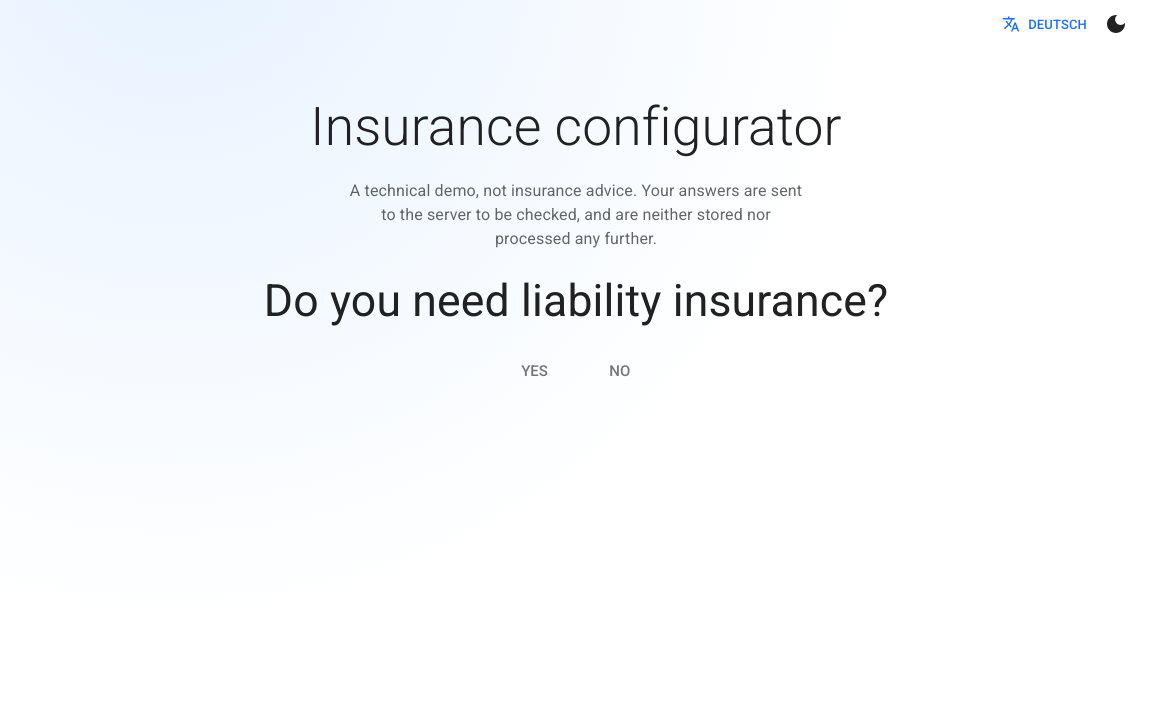
it: InsuranceChat › resets to the first question once the reset is confirmed
Click the button "Yes".
click(534, 371)  # box [496,342,573,400]
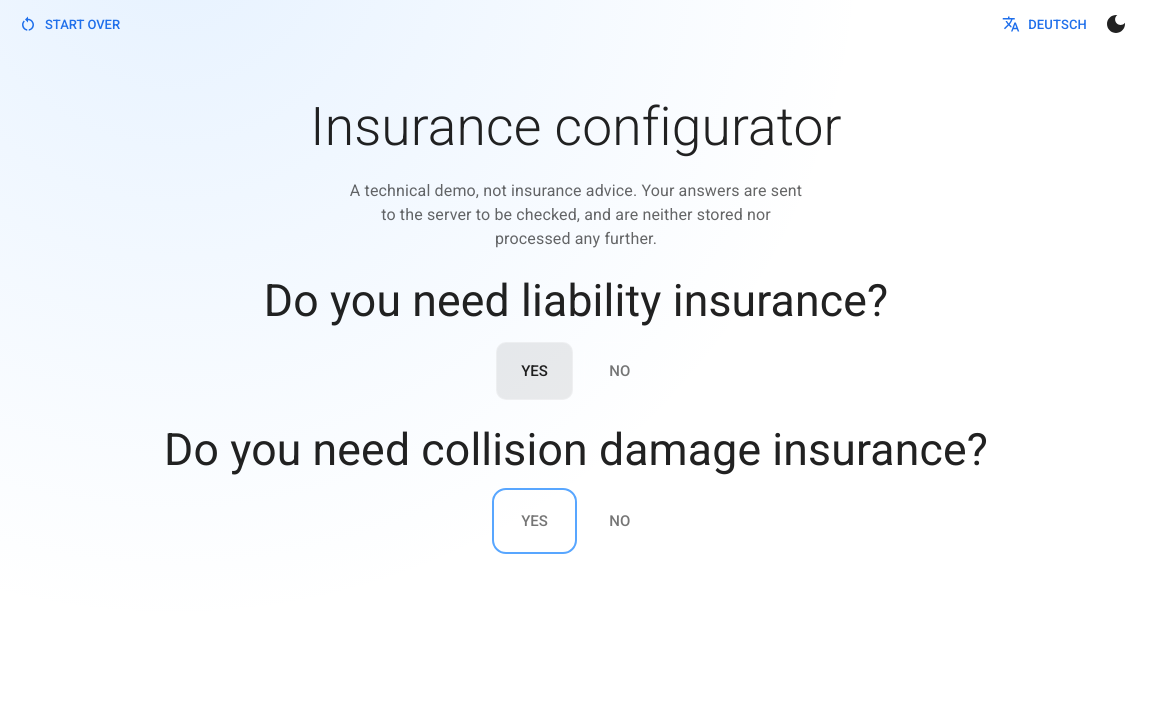
Click the button "Start over".
click(71, 24)  # box [16,11,125,37]
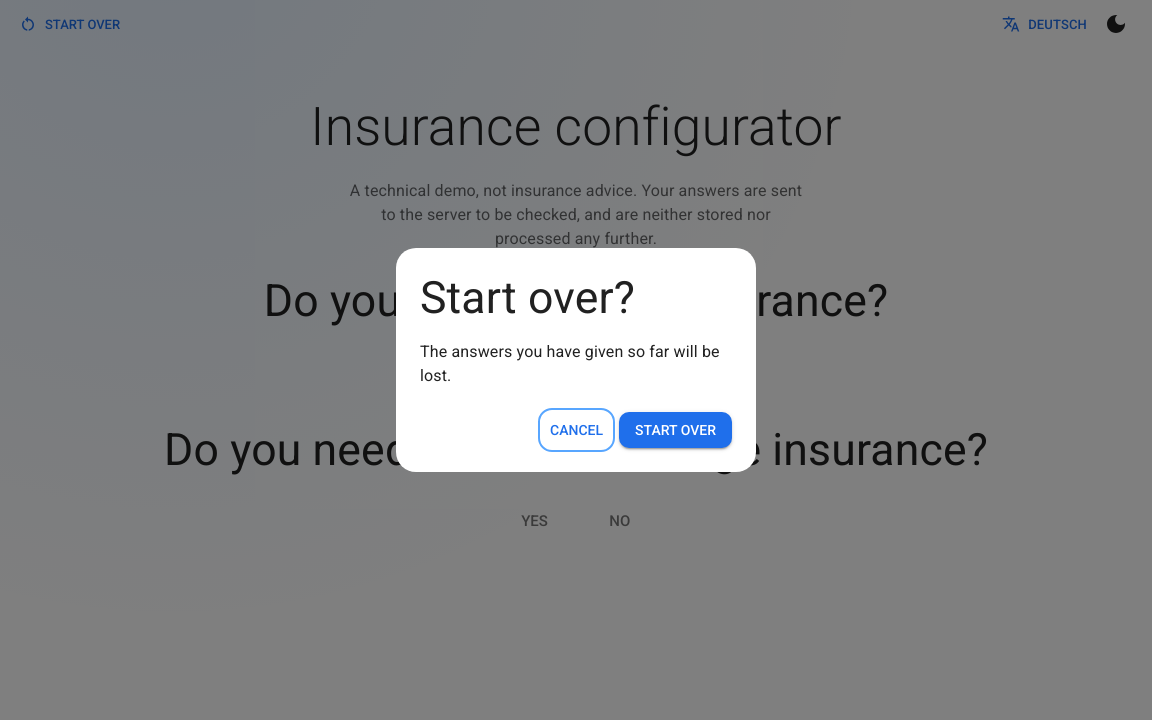
Click the button "Start over" below "Start over?".
click(676, 430)  # box [619,412,732,448]
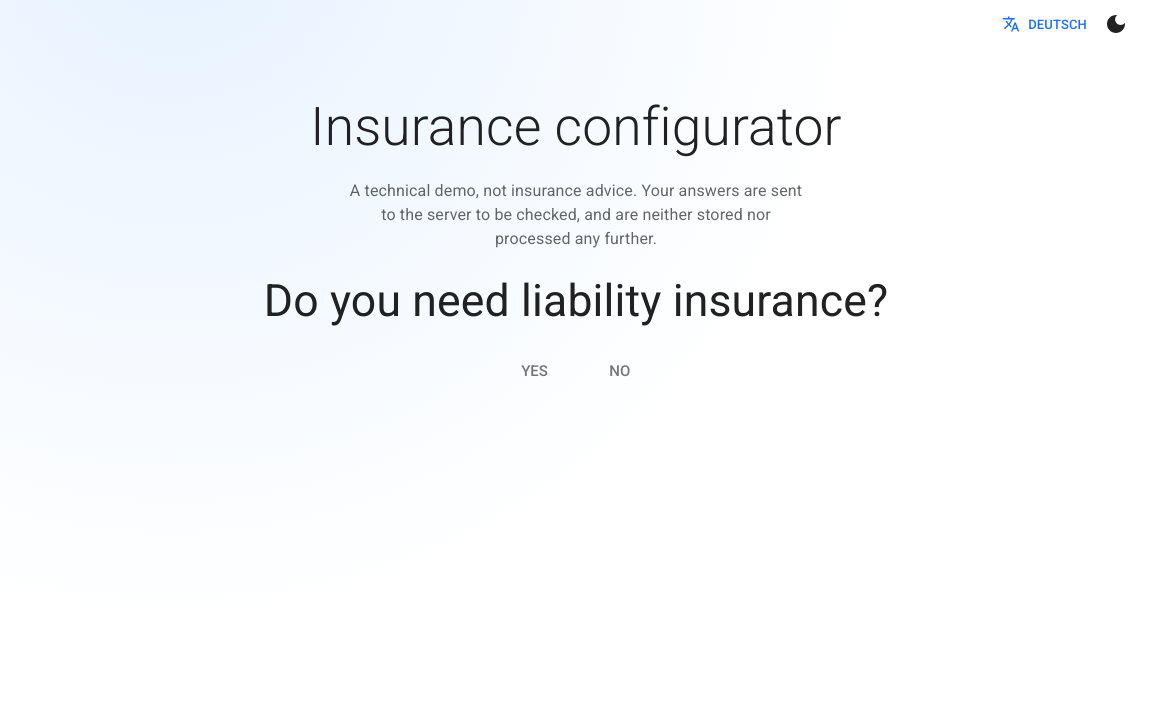
Expected: the heading "Do you need liability insurance?" is shown, [264,275,888,327]
Expected: the heading "Do you need collision damage insurance?" is gone
Expected: the button "Start over" is gone
